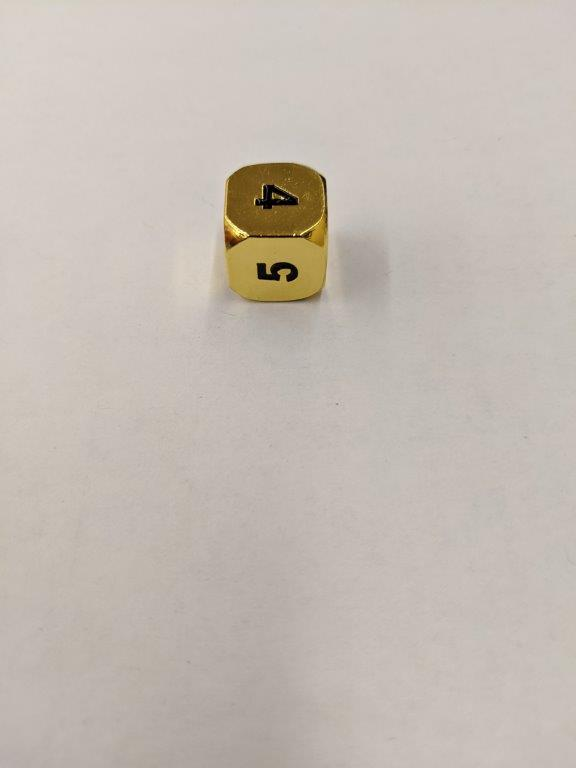d6-4: (224, 161, 330, 304)
